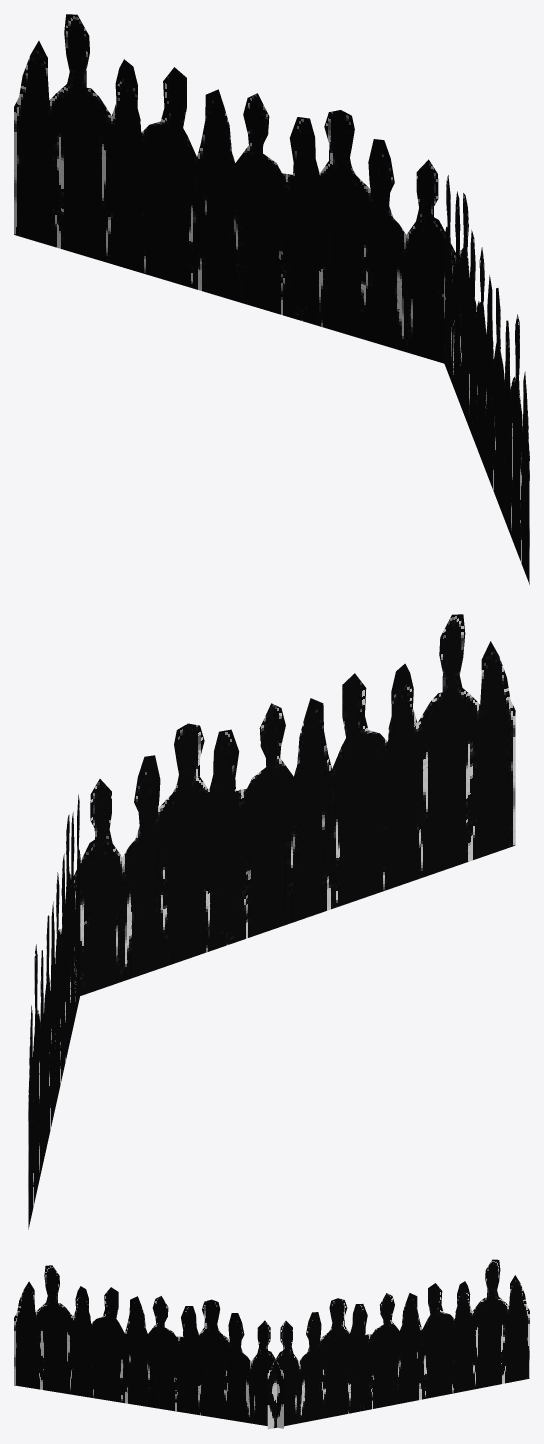
Rendered from peepole.glb.
3 views of the same model, one above another, from view 1: azimuth 30°, elevation 25°; view 2: azimuth 150°, elevation 25°; view 3: azimuth 270°, elevation 25° (orthographic). The views are drawn at different scales.
Visible parts, largest first — view 1: Plane.002; view 2: Plane.002; view 3: Plane.002.
Boxes of the visible parts, <box> form: Plane.002: <box>14,14,529,584</box>; Plane.002: <box>28,614,515,1229</box>; Plane.002: <box>14,1259,529,1429</box>.
Size of the model in its own units: 4.89 by 5.66 by 20.92.
2 materials, 2 textured.
